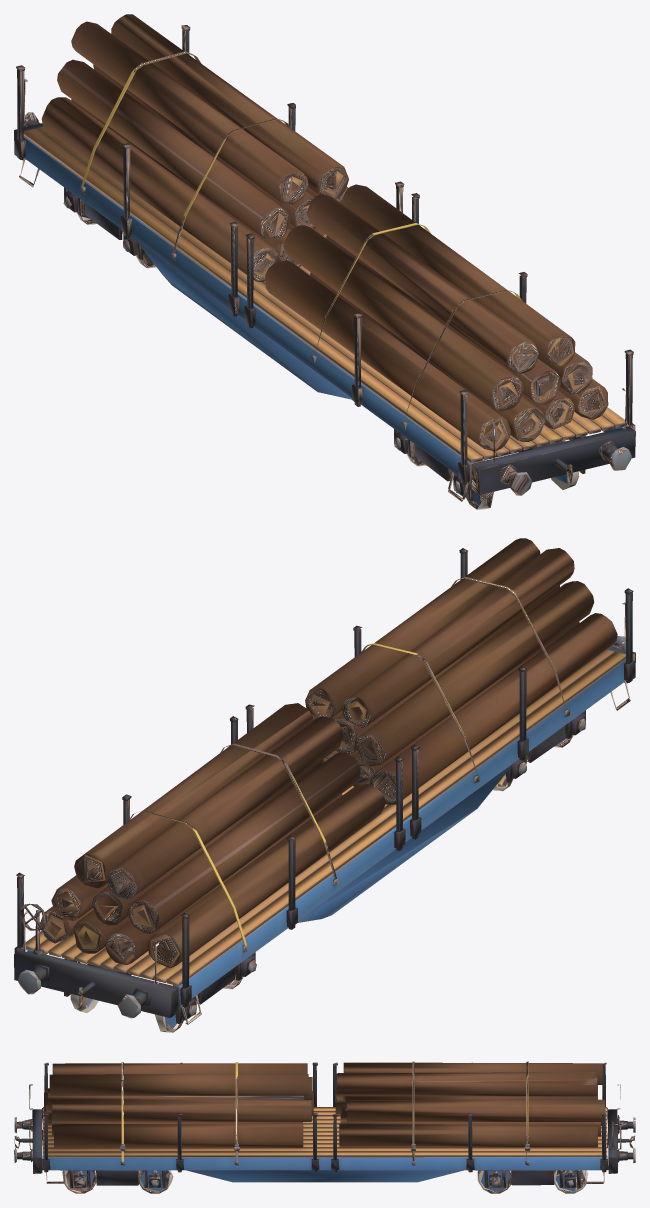
File: flatcar.glb
The picture shows the model from 3 angles, top to bottom: view 1: azimuth 30°, elevation 25°; view 2: azimuth 150°, elevation 25°; view 3: azimuth 270°, elevation 25°; orthographic projection. The views are drawn at different scales.
Parts seen in each view (by area): view 1: flatcar_body; view 2: flatcar_body; view 3: flatcar_body.
Boxes of the visible parts, x1=… form: flatcar_body: x1=14, y1=14, x2=635, y2=509; flatcar_body: x1=14, y1=538, x2=635, y2=1032; flatcar_body: x1=14, y1=1061, x2=635, y2=1193.
Size of the model in its own units: 3 by 3 by 14.98.
Materials: 1 (1 with a texture image).
